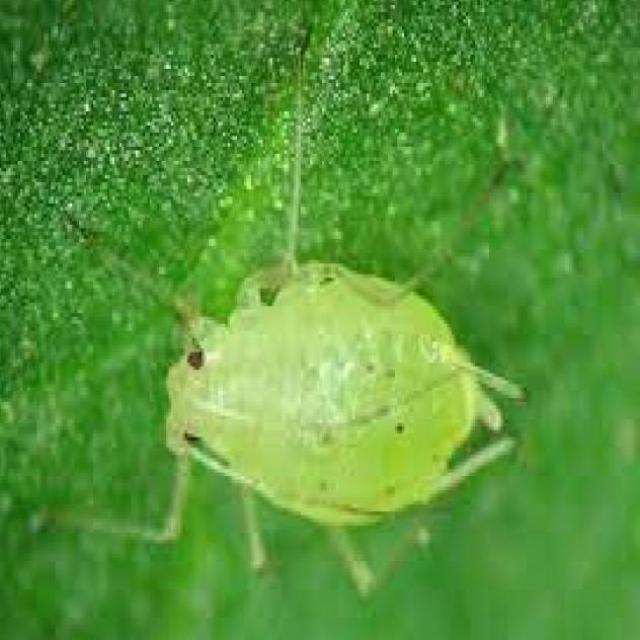Aphids: (65, 145, 544, 620)
